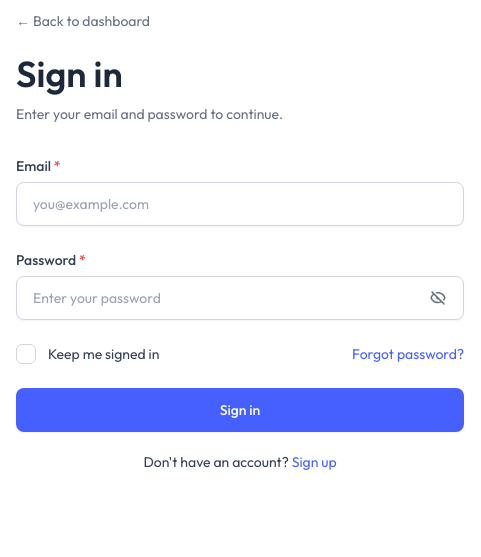
Scenario: SignInForm › maps authentication errors to user-friendly messages
The width and height of the screenshot is (481, 557).
Type "user@example.com" into the field labelled "Email *".
click(240, 204); type("user@example.com")  # box [16,182,464,226]
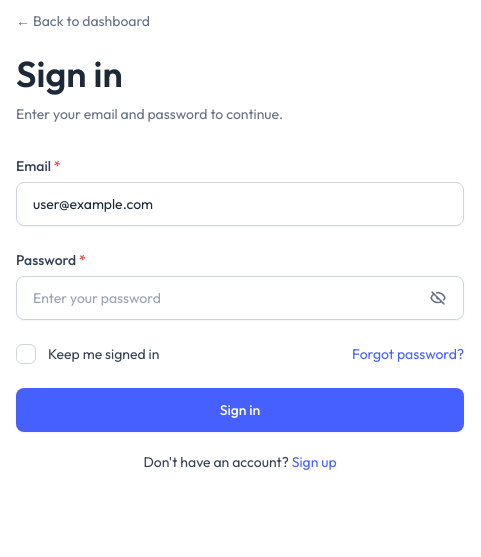
Type "password123" into the password field labelled "Password *".
click(240, 298); type("password123")  # box [16,276,464,320]
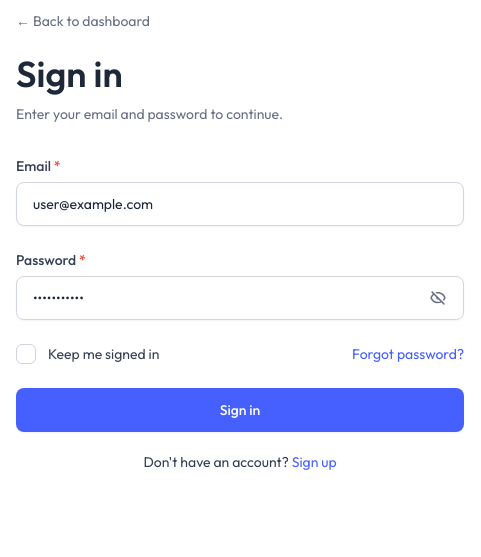
Click the button "Sign in".
click(240, 410)  # box [16,388,464,432]
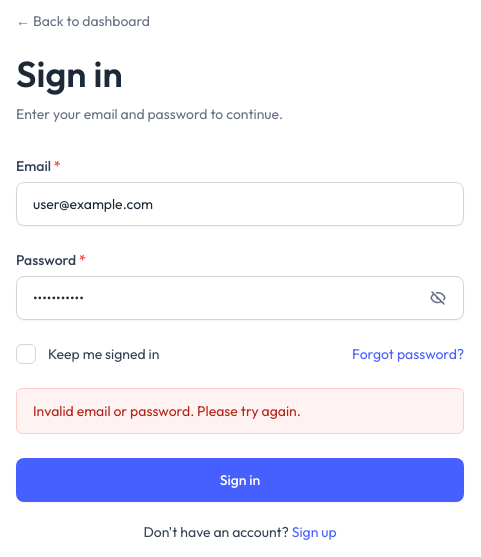
expect the text "Invalid email or password. Please try again." is shown: met, box [16,388,464,434]
